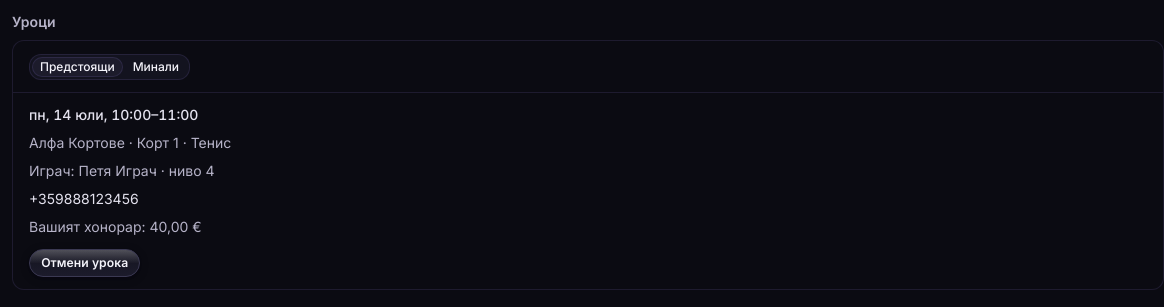
«Уроци»: what a coach is shown › while the past ones load, the upcoming ones are not shown under «Минали»
Click the radio button labelled "Минали": (156, 67) [125,57,187,77]
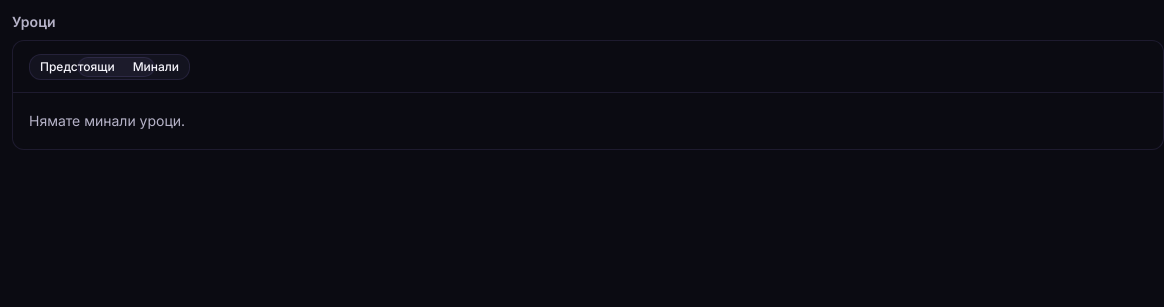
Result: the element with test id "coach-lesson" is gone
Result: the text "Зареждане…" is shown at [29,111,185,131]
Result: the element with test id "coach-lessons-none" reads "Нямате минали уроци." at [29,112,185,129]
